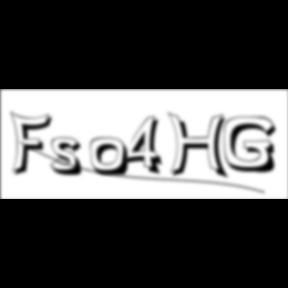4: (122, 115, 170, 179)
F: (10, 110, 58, 178)
G: (224, 116, 282, 176)
H: (167, 112, 233, 182)
o: (90, 137, 132, 179)
s: (50, 137, 90, 179)
